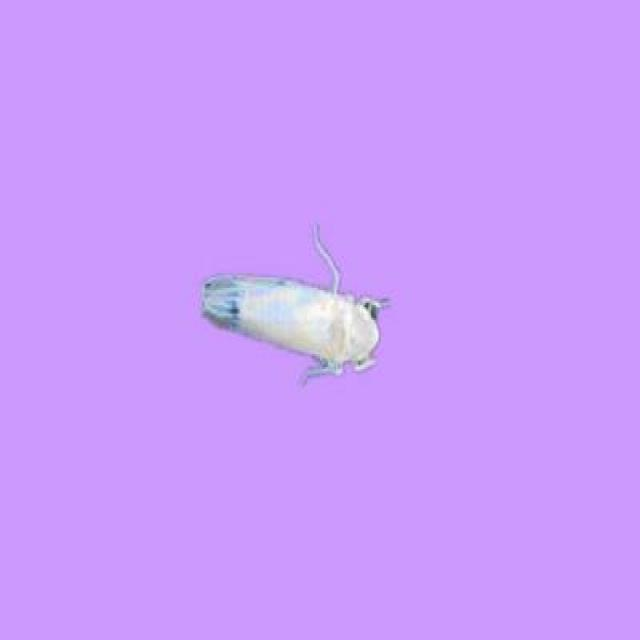Yechan: (192, 225, 398, 391)
